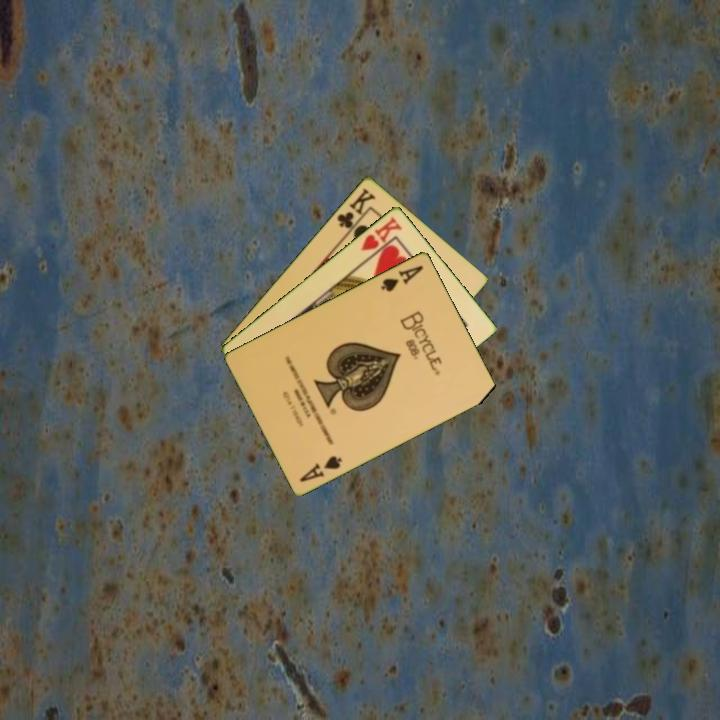As: (377, 261, 426, 294), (296, 452, 345, 485)
Kc: (333, 184, 379, 237)
Kh: (357, 213, 405, 262)
